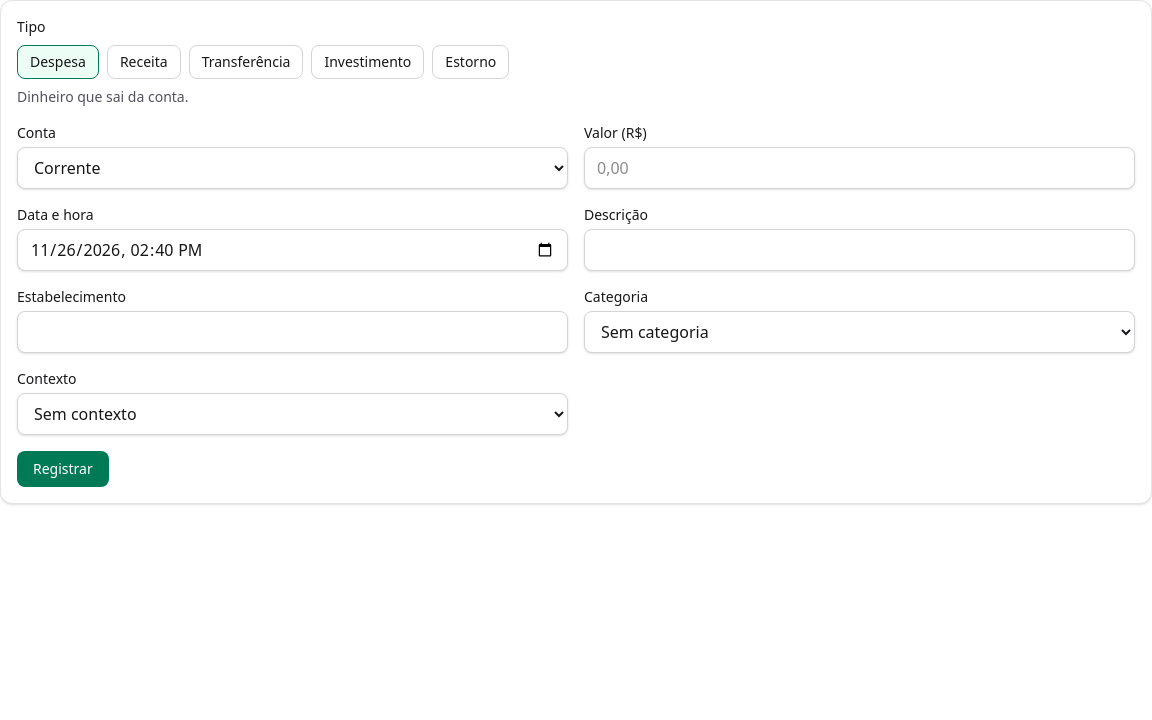
Scenario: TransactionForm › investimento sem conta de investimentos explica o que falta
Click the radio button labelled "Investimento" at (368, 62), box [311, 45, 424, 79]
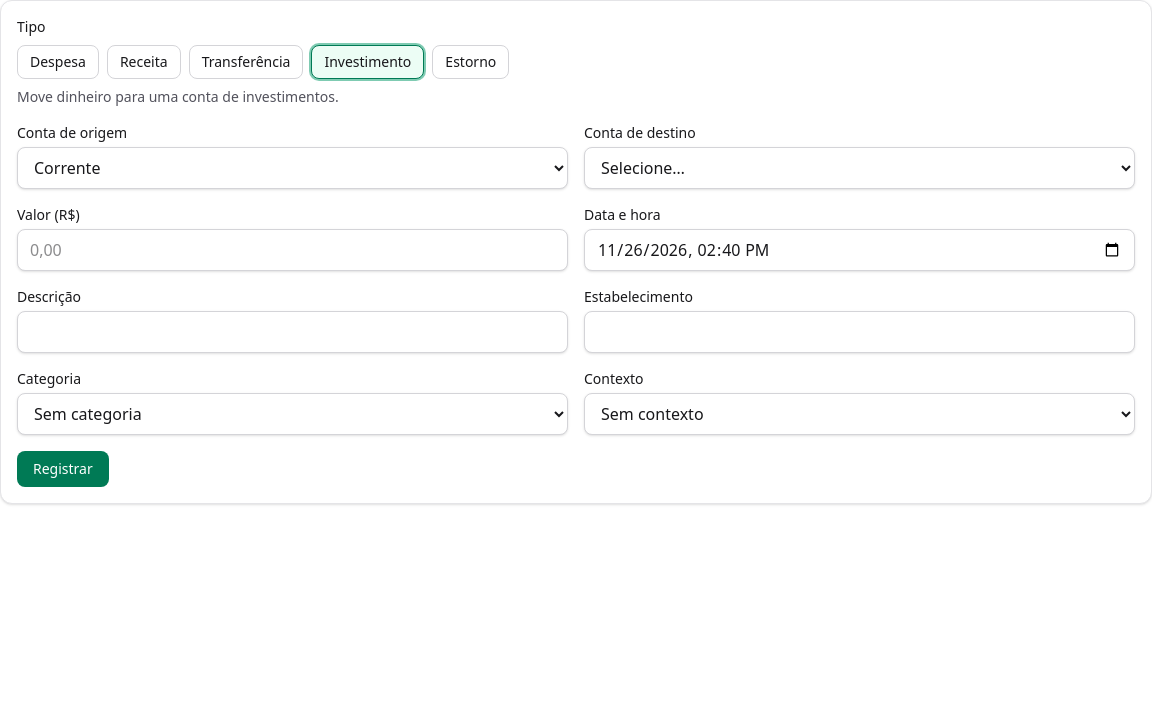
Type "10" into the field labelled "Valor (R$)" at (292, 250), box [17, 229, 568, 271]
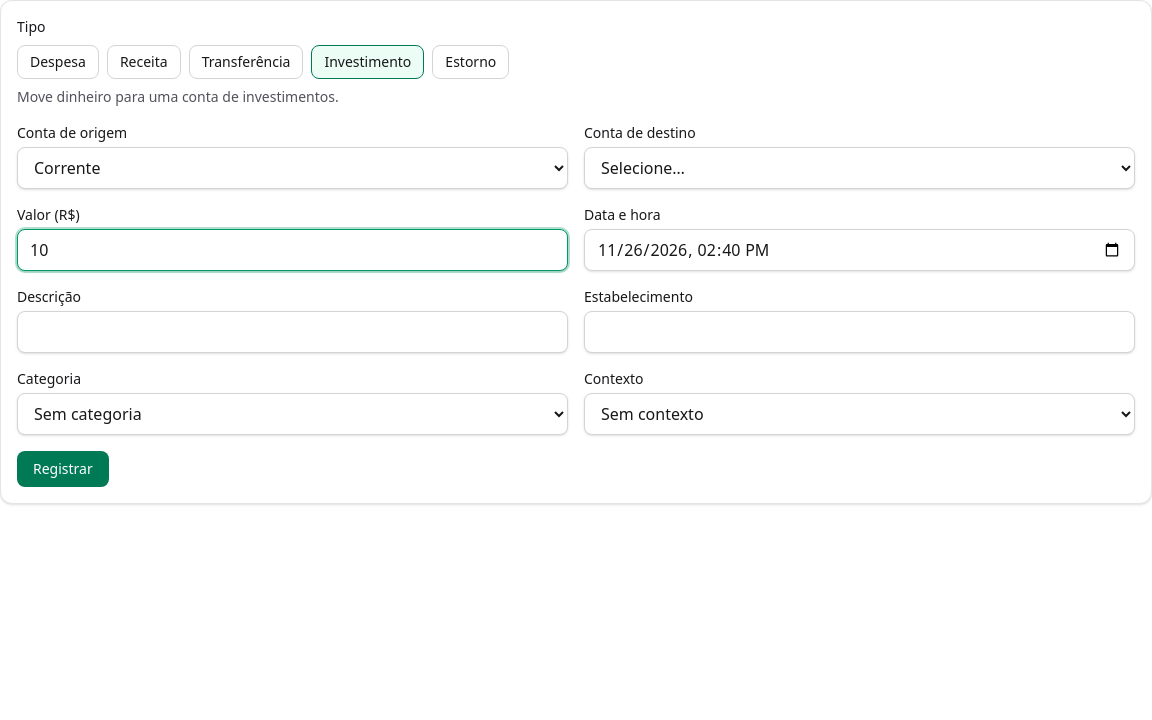
Click the button "Registrar" at (63, 469), box [17, 451, 109, 487]
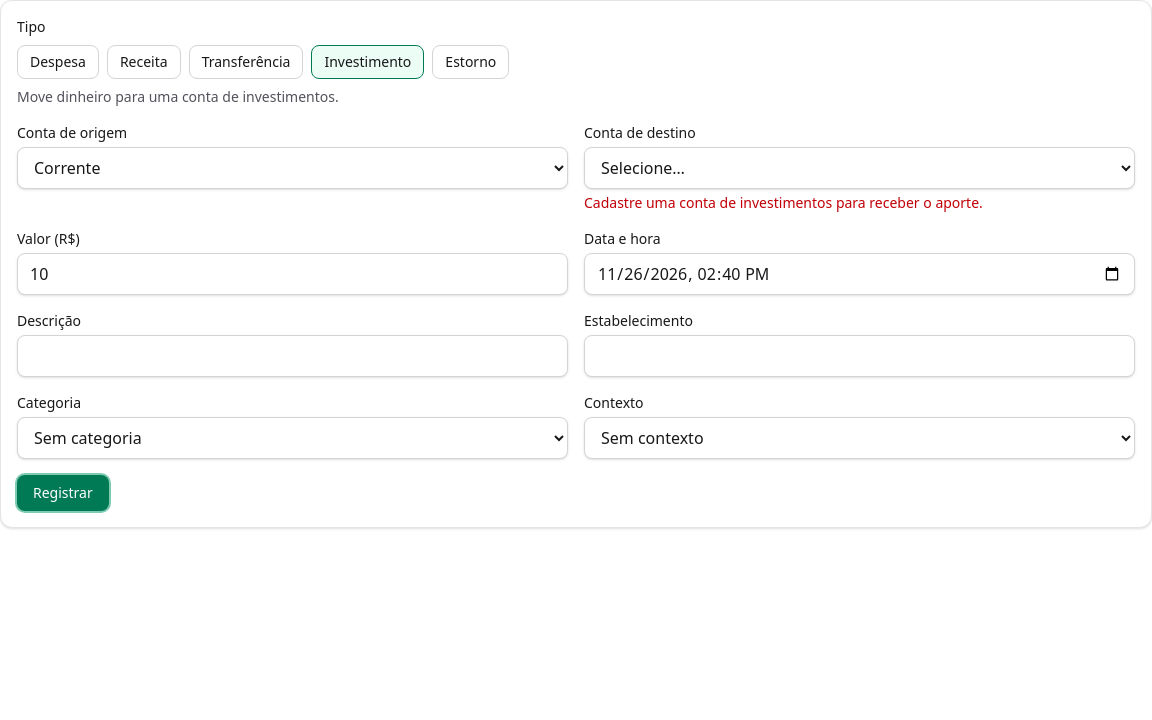
expect the text "Cadastre uma conta de investimentos para receber o aporte." is shown: met, box [584, 193, 983, 212]
